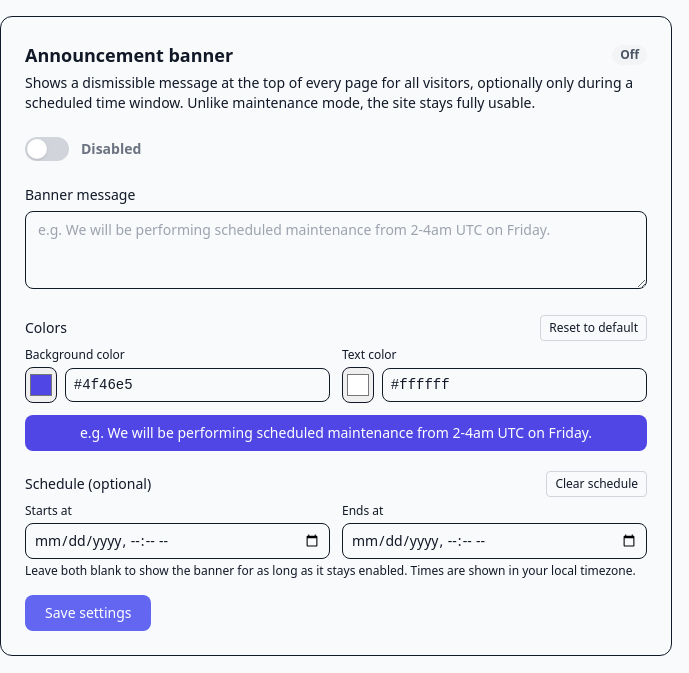
Test: BannerPanel › shows an error message when saving fails
This screenshot has width=689, height=673.
Check: the switch is shown, box [25, 137, 69, 161]
Click the button "Save settings": (88, 613) [25, 595, 152, 631]
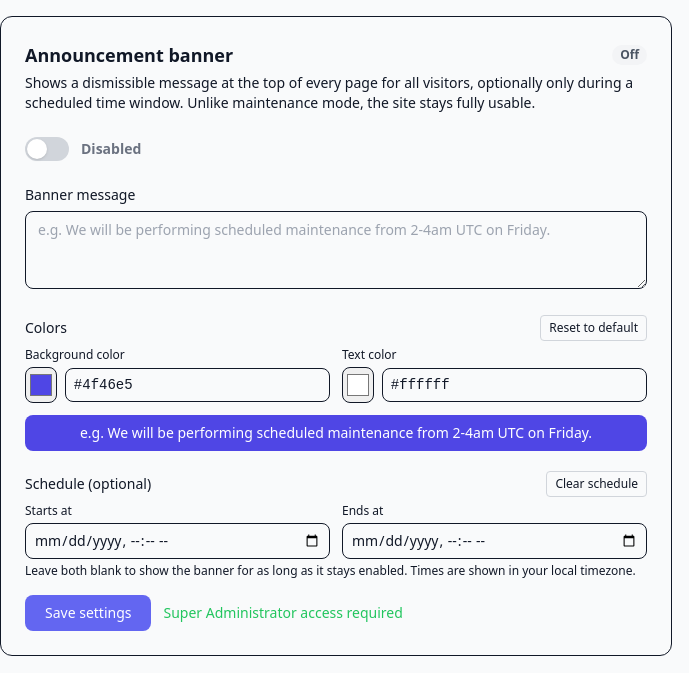
Check: the text "Super Administrator access required" is shown, box [164, 603, 403, 623]
